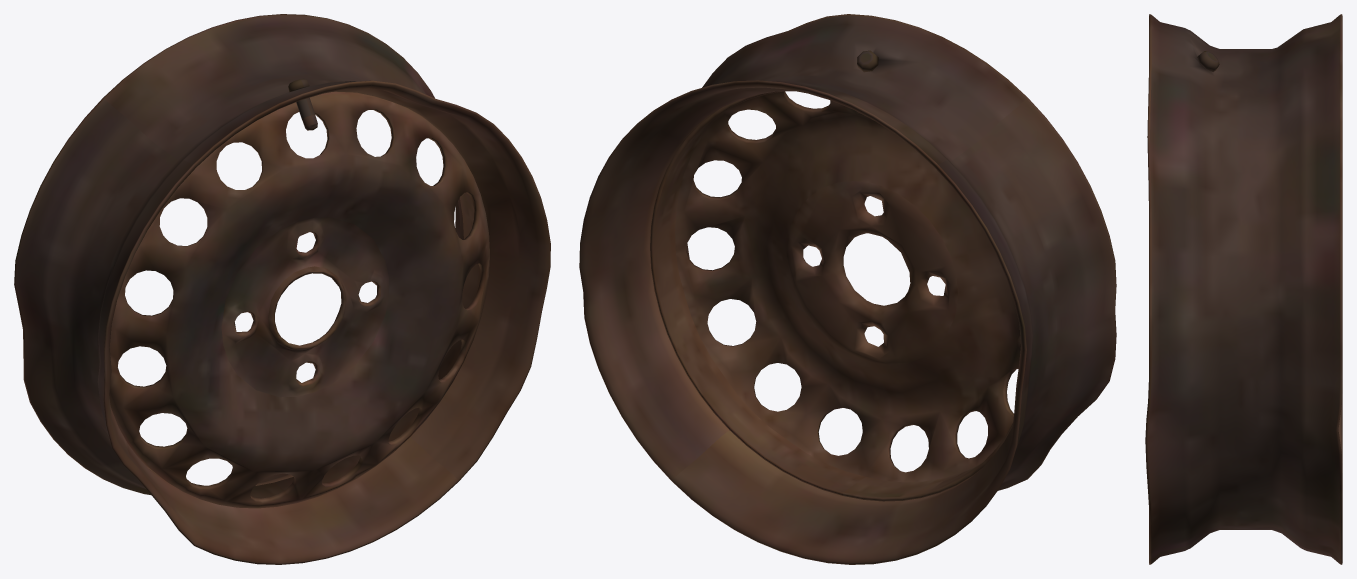
The model's file is rusted_wheel_rim_02_lod1.glb.
The picture shows the model from 3 angles, left to right: view 1: azimuth 30°, elevation 25°; view 2: azimuth 150°, elevation 25°; view 3: azimuth 270°, elevation 25°; orthographic projection. The views are drawn at different scales.
Visible parts, largest first — view 1: rusted_wheel_rim_02; view 2: rusted_wheel_rim_02; view 3: rusted_wheel_rim_02.
Part boxes in pixels (x1,y1,x2,y2): rusted_wheel_rim_02: [14, 14, 550, 564]; rusted_wheel_rim_02: [579, 14, 1116, 564]; rusted_wheel_rim_02: [1145, 14, 1342, 564].
Size of the model in its own units: 0.3355 by 0.3383 by 0.1211.
1 material, 1 textured.
